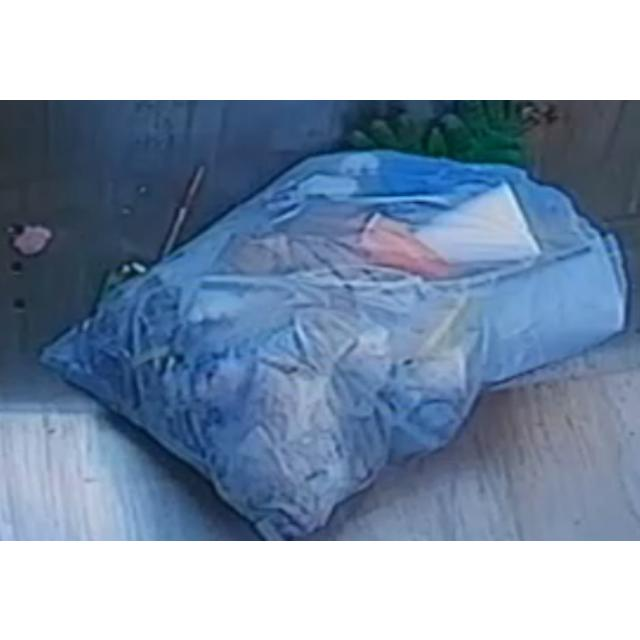other_trashbag: (41, 150, 626, 539)
